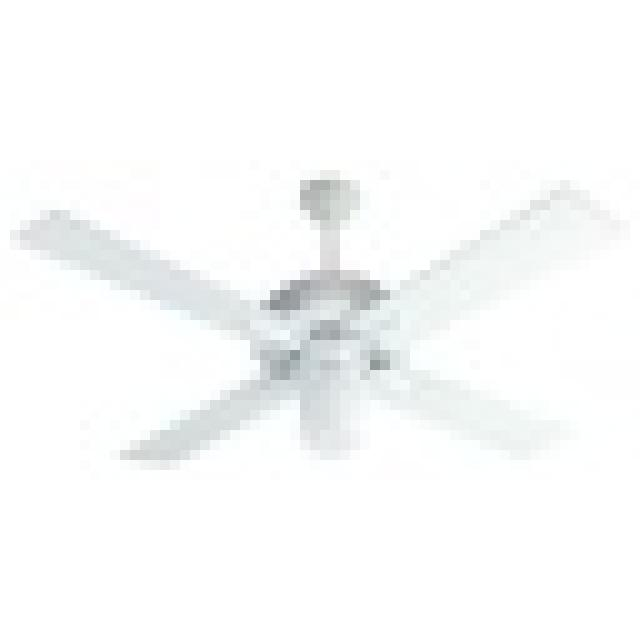Bulb: (30, 200, 640, 490)
